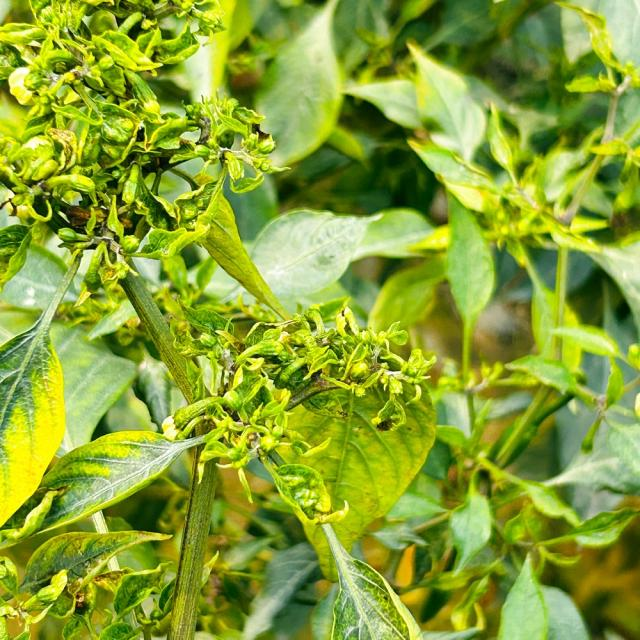Chilli_Leaf_Curl: (1, 1, 638, 638), (1, 0, 289, 314), (165, 297, 438, 544), (2, 423, 221, 546), (0, 245, 84, 528), (317, 520, 423, 639)
